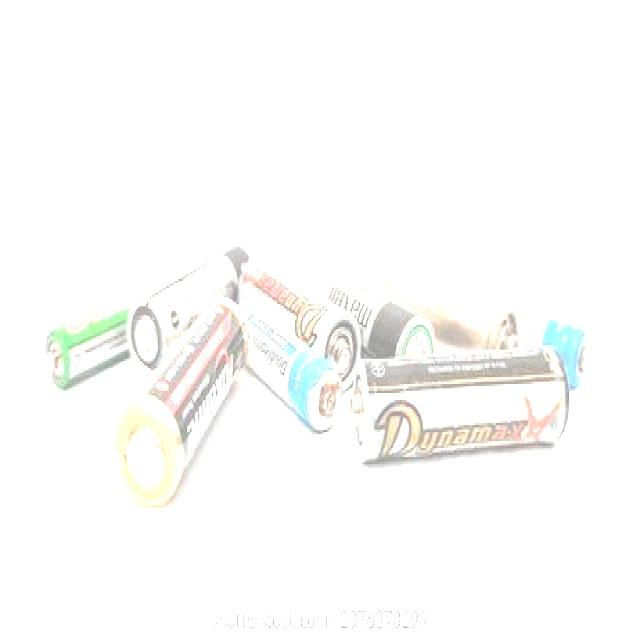AA: (112, 295, 251, 509), (346, 341, 573, 469), (124, 238, 255, 378), (237, 250, 363, 395), (239, 298, 346, 435)
